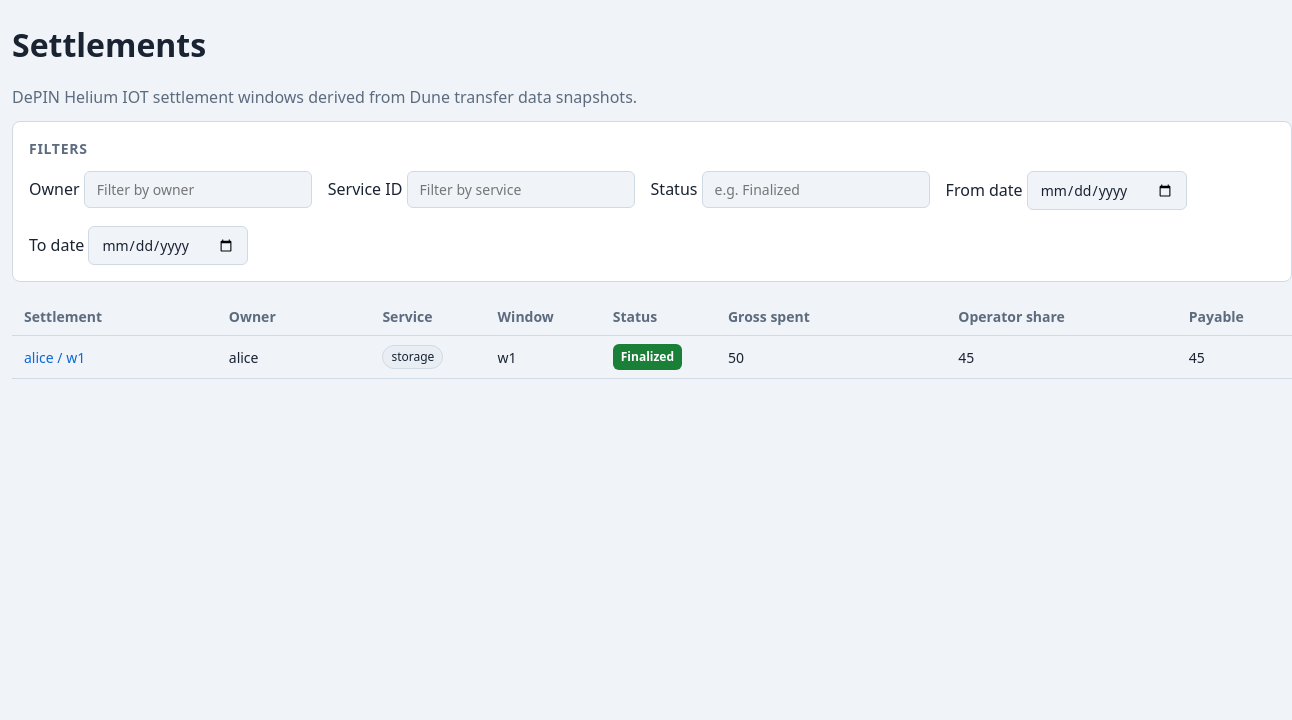
it: SettlementsPage › navigates from settlements list row to settlement detail page
Expected: the table is shown, x1=12 y1=298 x2=1291 y2=379
Click the link "alice / w1" at {"x": 55, "y": 357}, box x1=24 y1=348 x2=85 y2=367
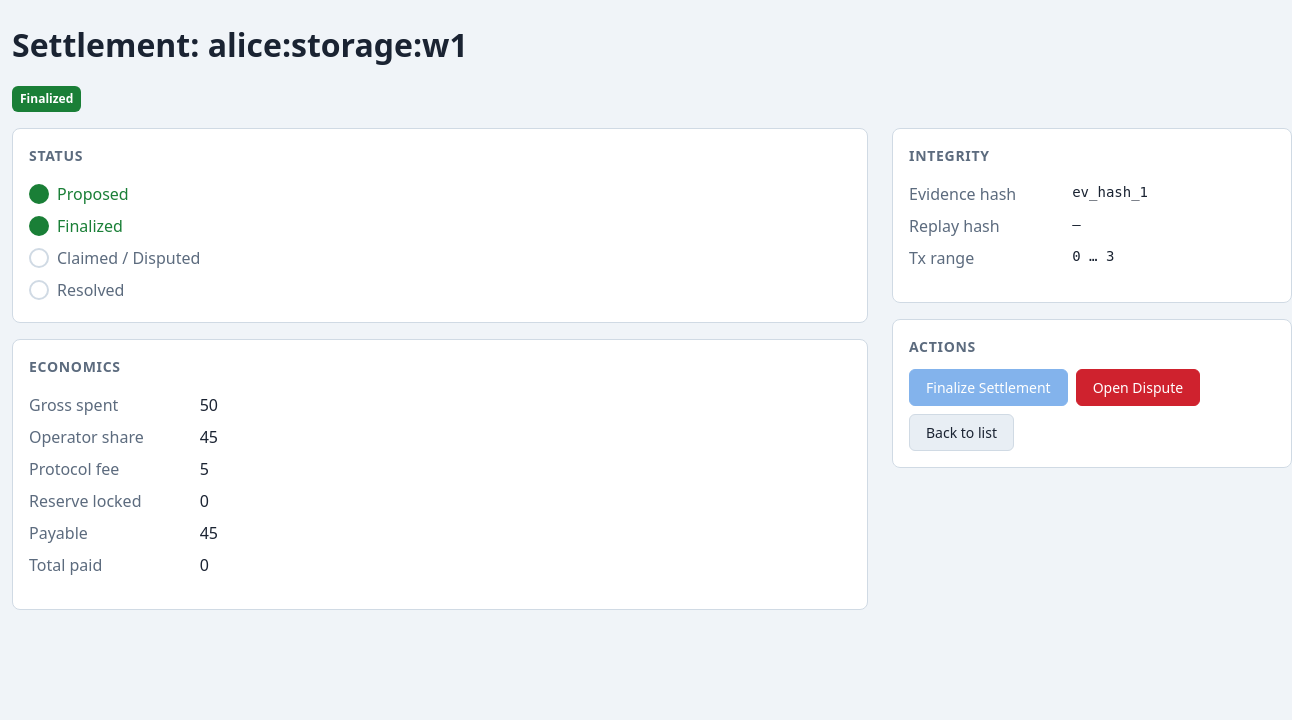
Expected: the heading "Settlement: alice:storage:w1" is shown, x1=12 y1=23 x2=468 y2=66
